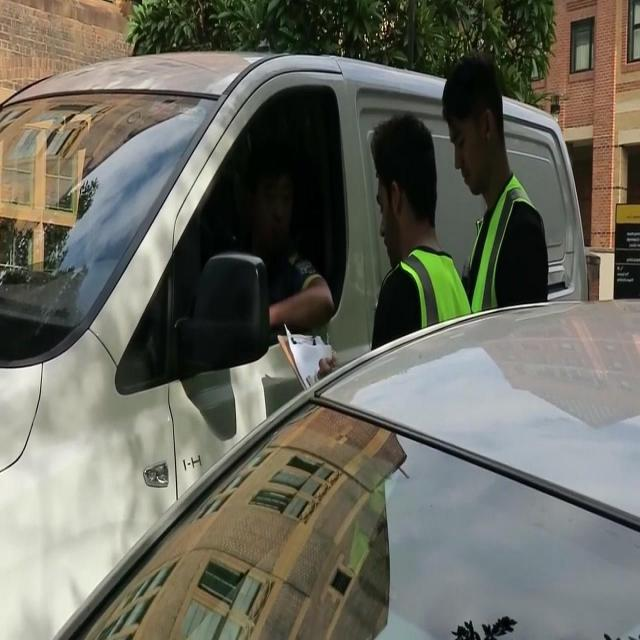Reflective-Jacket: (462, 170, 552, 318), (387, 238, 482, 336)
